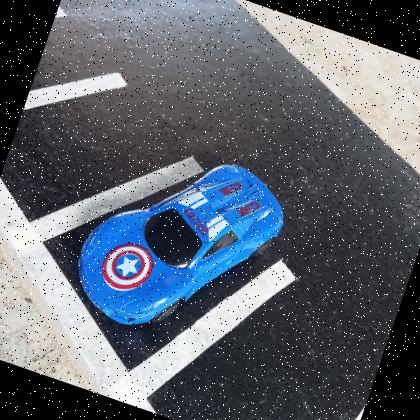Car: (78, 166, 281, 326)
